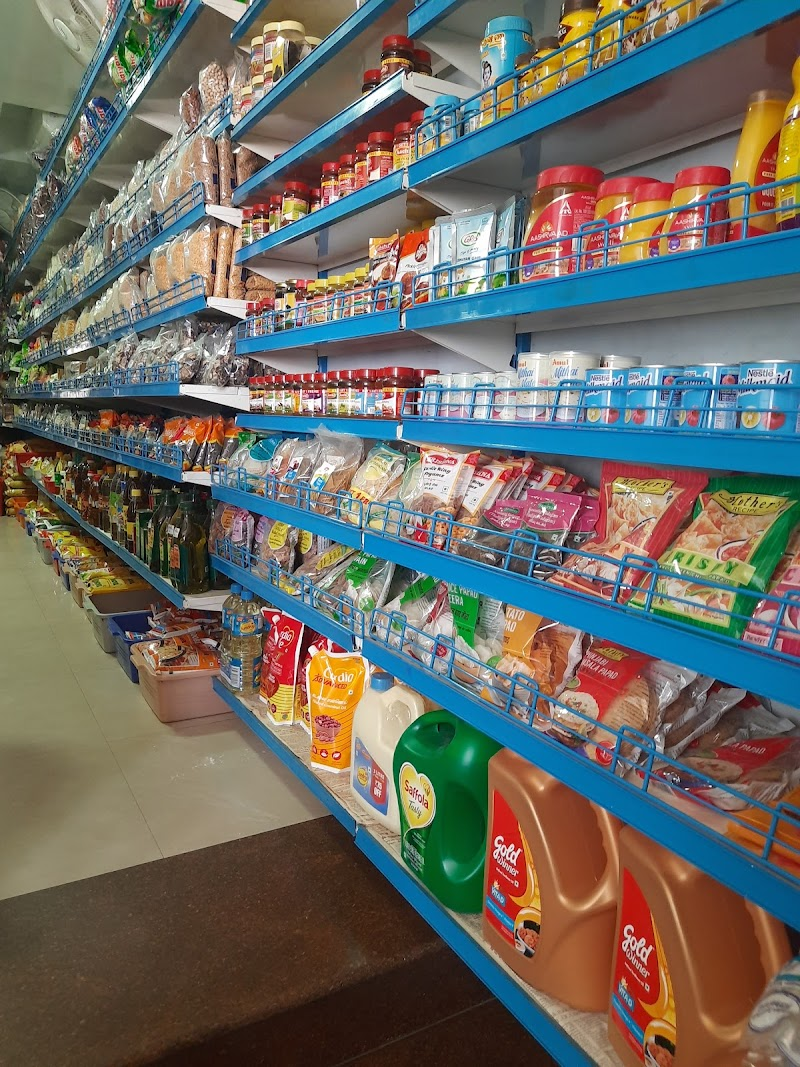saffola: (395, 759, 438, 830)
